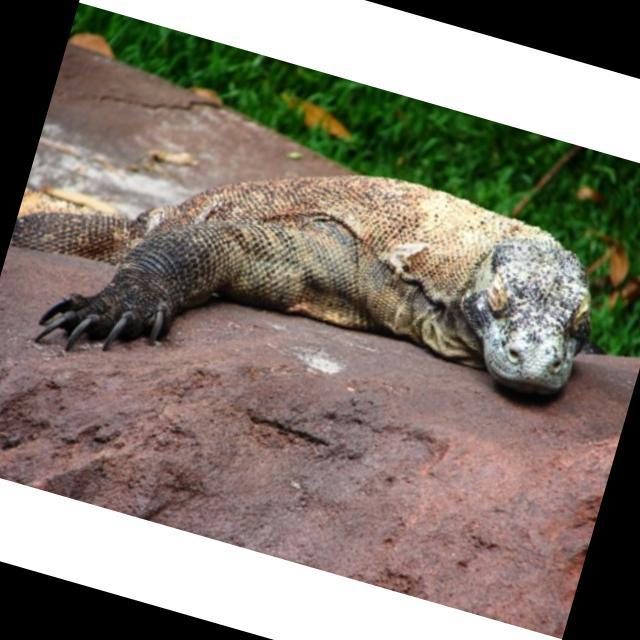KomodoDragon: (0, 76, 614, 496)
